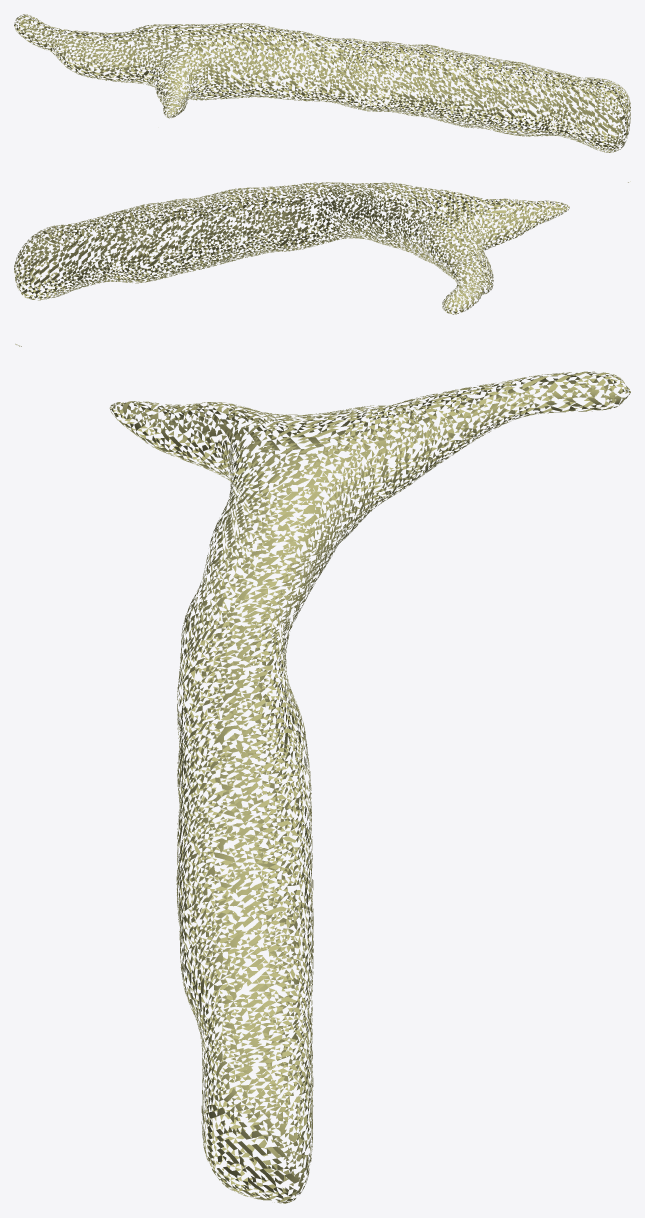
File: morph_009.glb
The picture shows the model from 3 angles, top to bottom: view 1: azimuth 30°, elevation 25°; view 2: azimuth 150°, elevation 25°; view 3: azimuth 270°, elevation 25°; orthographic projection. The views are drawn at different scales.
Size of the model in its own units: 127 by 46.21 by 65.57.
